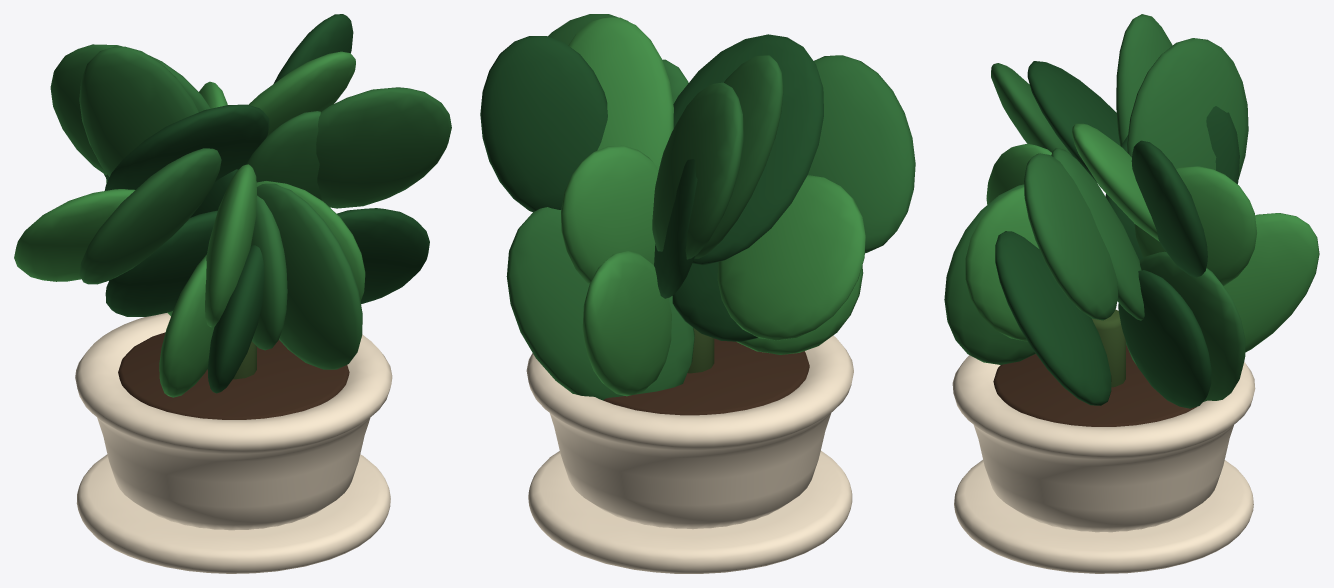
File: plant_b.glb
The picture shows the model from 3 angles, left to right: view 1: azimuth 30°, elevation 25°; view 2: azimuth 150°, elevation 25°; view 3: azimuth 270°, elevation 25°; orthographic projection. The views are drawn at different scales.
Visible parts, largest first — view 1: body; view 2: body; view 3: body.
Boxes of the visible parts, x1=… form: body: x1=14, y1=14, x2=451, y2=573; body: x1=480, y1=14, x2=915, y2=573; body: x1=944, y1=14, x2=1319, y2=573.
Bounding box in the file's own units: 0.3797 × 0.4515 × 0.3377.
